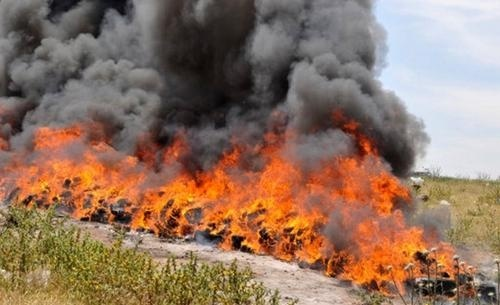fire: (18, 108, 457, 259)
